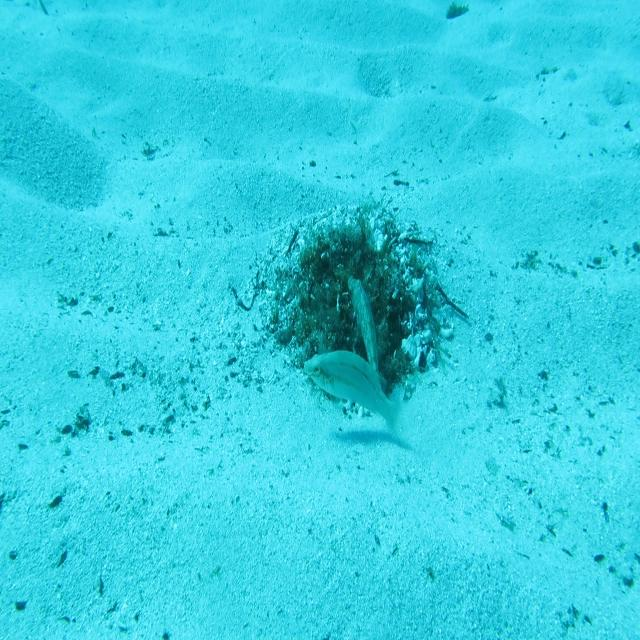FAN: (346, 273, 380, 381)
core_nest: (326, 255, 372, 298)
female: (302, 346, 408, 446)
nest: (249, 190, 464, 426)
vegetation: (448, 1, 470, 21)
